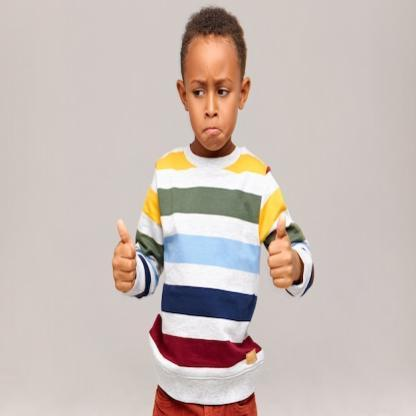thumb_up: (266, 211, 298, 290), (110, 214, 138, 296)
